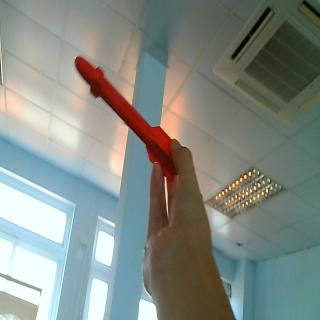Rocket: (73, 53, 177, 180)
